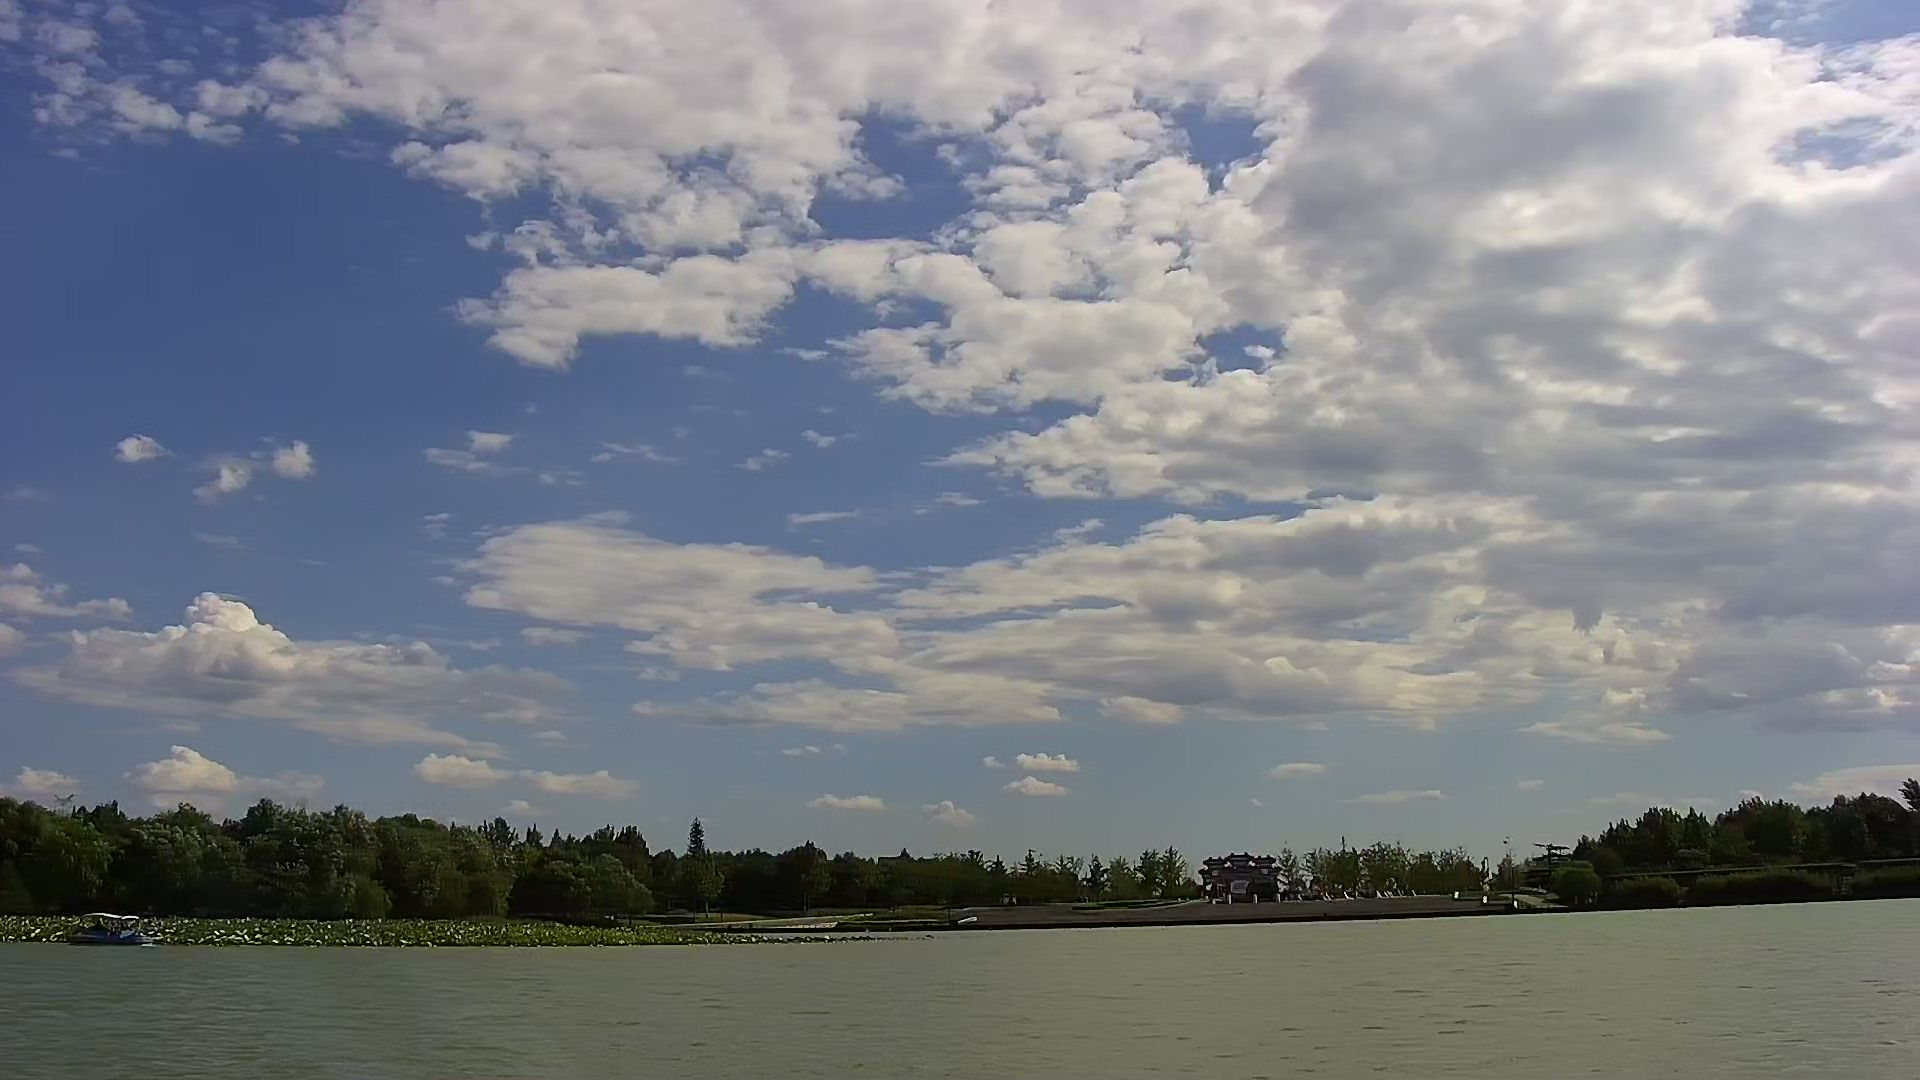boat: (65, 911, 153, 953)
harbor: (982, 887, 1564, 926)
